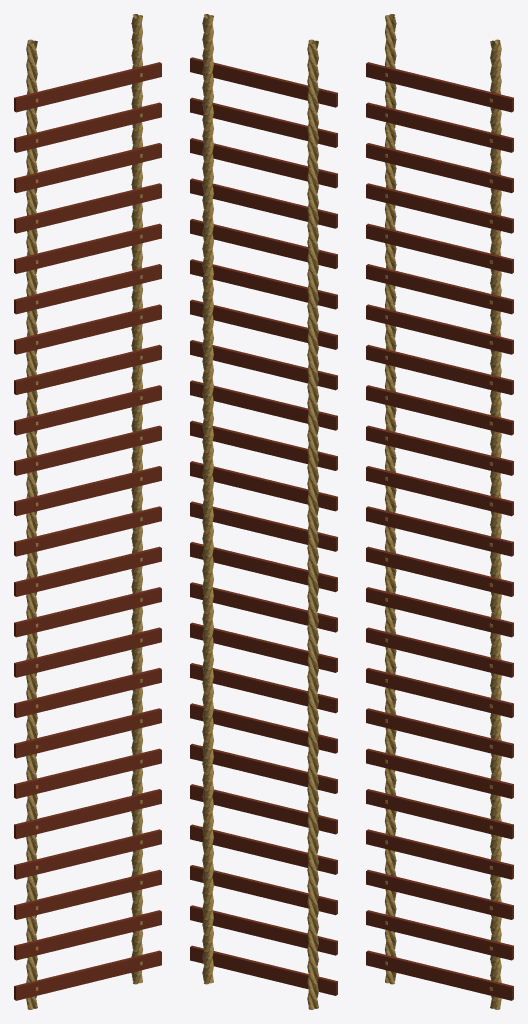
Rendered from RopeLadder.fbx.
3 renders of one model, left to right at view 1: azimuth 30°, elevation 25°; view 2: azimuth 150°, elevation 25°; view 3: azimuth 330°, elevation 25°, orthographic.
Parts seen in each view (by area): view 1: RopeLadder; view 2: RopeLadder; view 3: RopeLadder.
Boxes of the visible parts, x1,y1,x2,y2 form: RopeLadder: (14,14,161,1009); RopeLadder: (190,14,337,1009); RopeLadder: (366,14,513,1009).
Bounding box in the file's own units: 223 × 1410 × 20.17.
